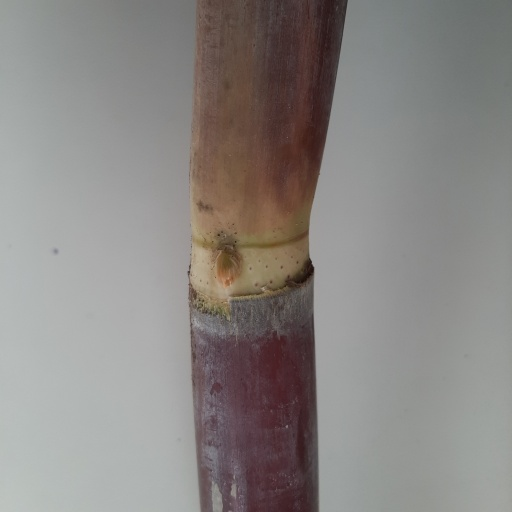Bud: (214, 246, 243, 288)
